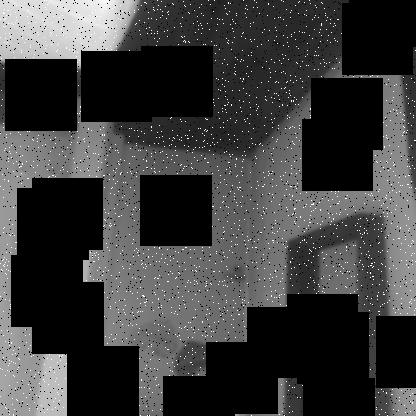Porte: (74, 132, 268, 415)
